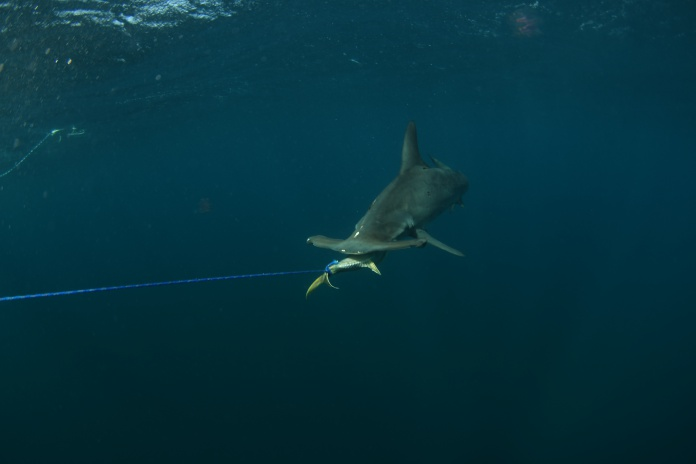Hammer: (264, 116, 493, 304)
